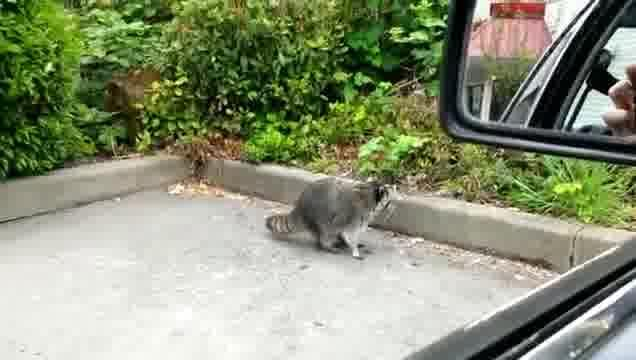raccoon: (266, 177, 404, 264)
